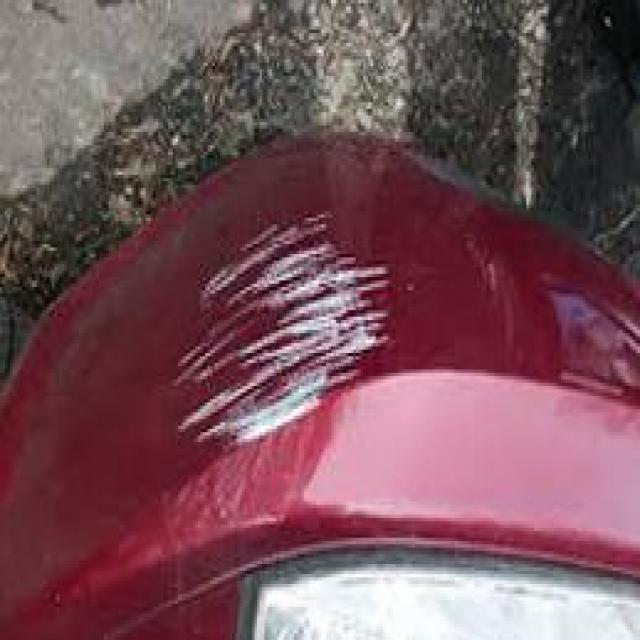scratch: (156, 196, 400, 454)
